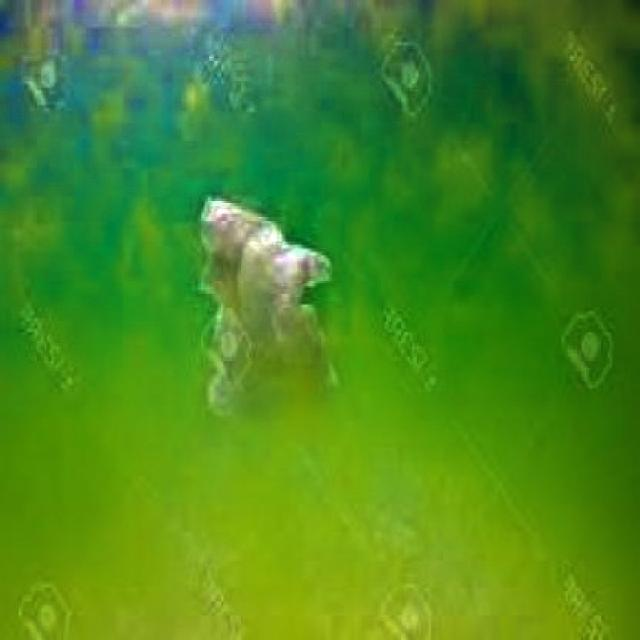pbag: (198, 196, 339, 419)
